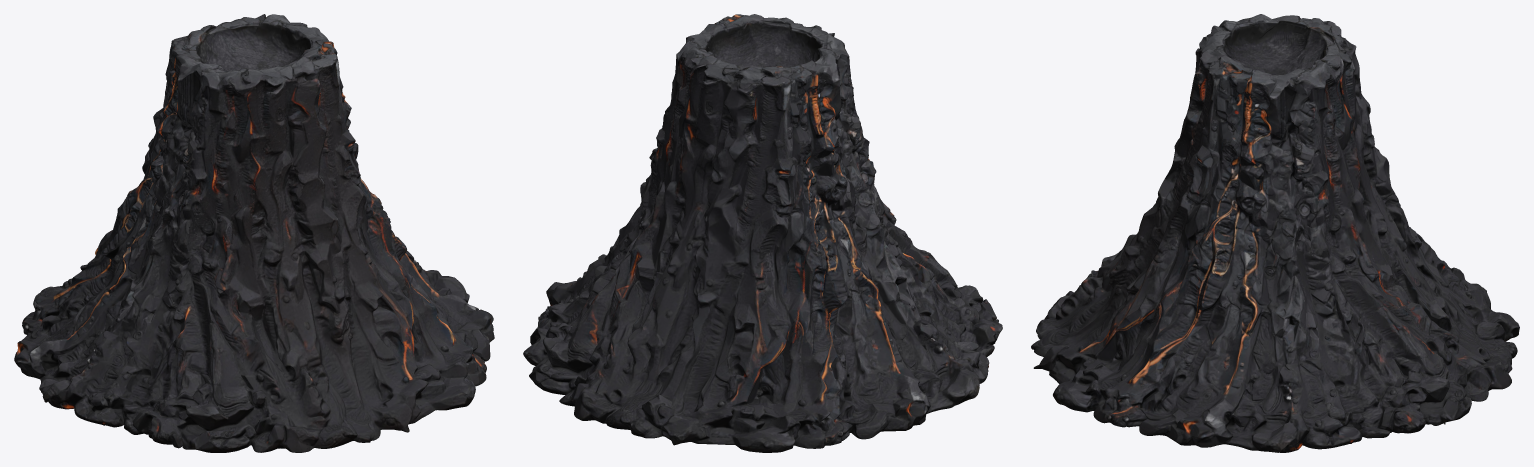
Rendered from venus_volcano.glb.
The picture shows the model from 3 angles, left to right: view 1: azimuth 30°, elevation 25°; view 2: azimuth 150°, elevation 25°; view 3: azimuth 270°, elevation 25°; orthographic projection.
Visible parts, largest first — view 1: tripo_node_c5c48fc1-0b74-4df1-854d-8fc9a6a9e0f5; view 2: tripo_node_c5c48fc1-0b74-4df1-854d-8fc9a6a9e0f5; view 3: tripo_node_c5c48fc1-0b74-4df1-854d-8fc9a6a9e0f5.
Part boxes in pixels (<box>): tripo_node_c5c48fc1-0b74-4df1-854d-8fc9a6a9e0f5: <box>14,14,494,452</box>; tripo_node_c5c48fc1-0b74-4df1-854d-8fc9a6a9e0f5: <box>523,14,1002,452</box>; tripo_node_c5c48fc1-0b74-4df1-854d-8fc9a6a9e0f5: <box>1031,14,1519,452</box>.
Bounding box in the file's own units: 0.9844 × 0.6837 × 0.9769.
1 material, 1 textured.
